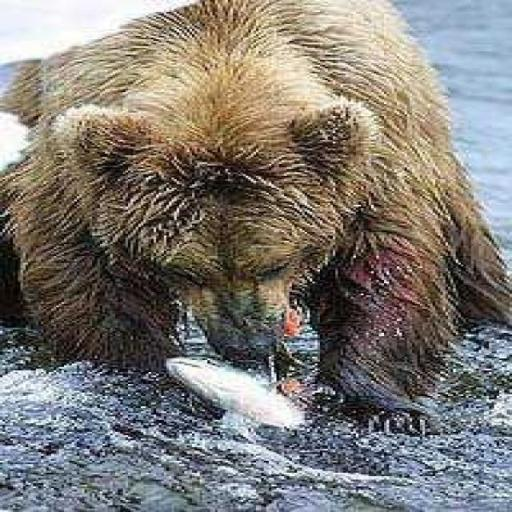Rhino: (0, 0, 510, 435)
